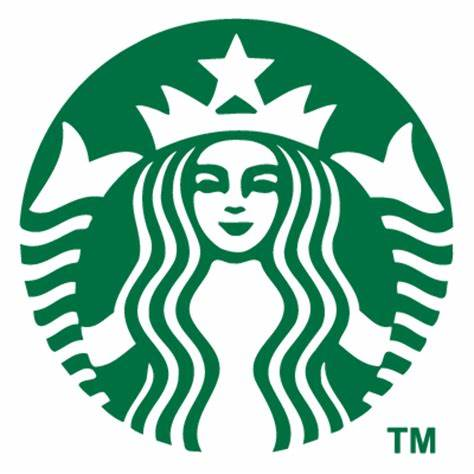starbucks Originale: (12, 13, 461, 460)
